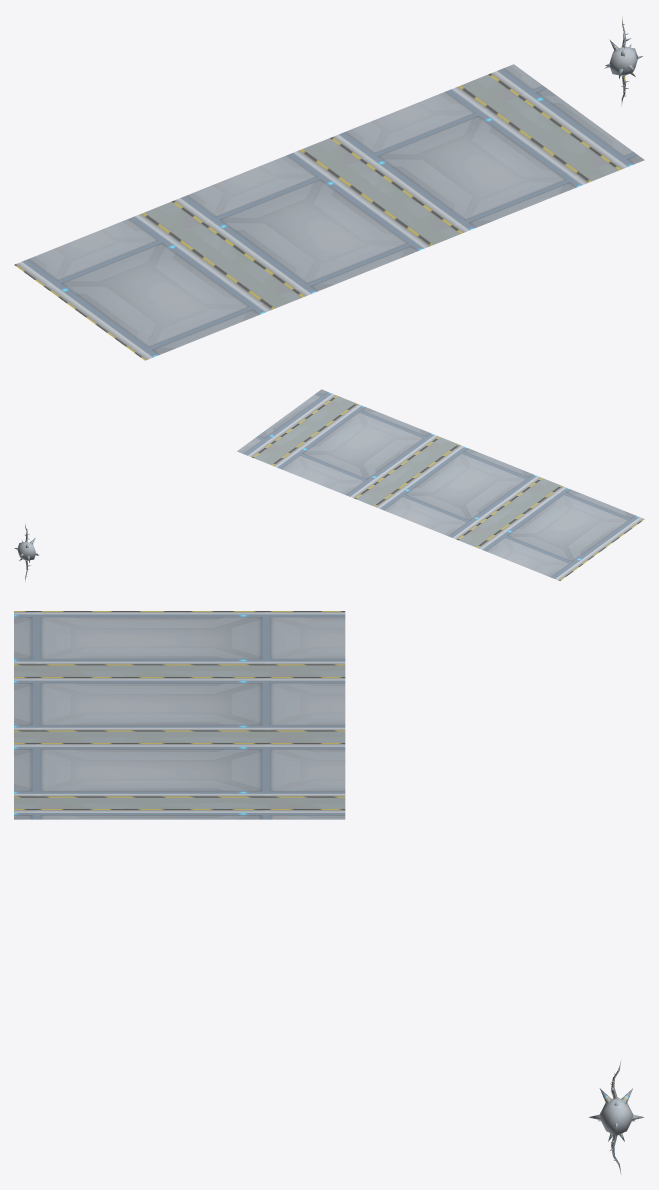
Rendered from Combined_Mesh_root_scene__12_ac3e1c64__ZombiesII_laboratory_05_d_57b6b985_c1f257.obj.
The picture shows the model from 3 angles, top to bottom: view 1: azimuth 30°, elevation 25°; view 2: azimuth 150°, elevation 25°; view 3: azimuth 270°, elevation 25°; orthographic projection. The views are drawn at different scales.
Bounding box in the file's own units: 29.47 × 6.72 × 17.31.
Materials: 2 (2 with a texture image).
